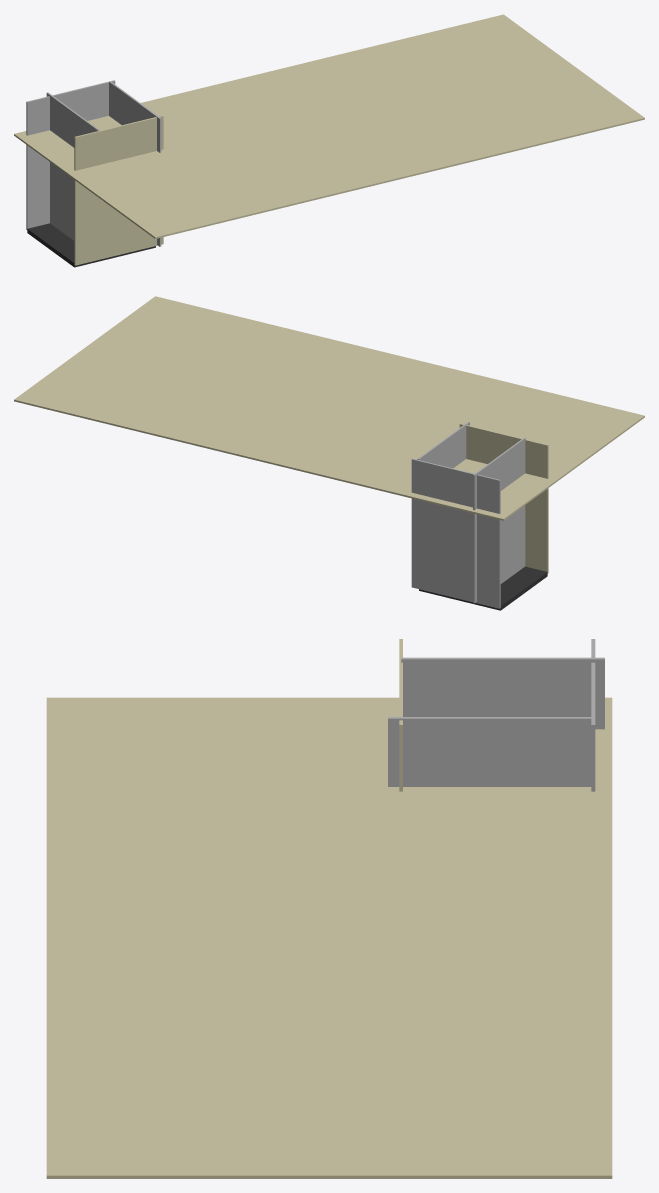
The model's file is Alexander Bedwell Final project.fbx.
3 views of the same model, one above another, from view 1: azimuth 30°, elevation 25°; view 2: azimuth 150°, elevation 25°; view 3: azimuth 270°, elevation 25° (orthographic). The views are drawn at different scales.
Parts seen in each view (by area): view 1: Wall_400x200_12, Wall_400x300_2, Wall_400x301, Wall_400x302_6, Wall_400x303_9, Floor; view 2: Wall_400x200_12, Wall_400x301, Wall_400x300_2, Wall_400x302_6, Floor, Wall_400x303_9; view 3: Wall_400x200_12, Wall_400x303_9, Wall_400x302_6.
Part boxes in pixels (x1,y1,x2,y2): Wall_400x200_12: (14, 14, 644, 238); Wall_400x300_2: (74, 115, 163, 265); Wall_400x301: (26, 80, 115, 229); Wall_400x302_6: (46, 92, 98, 240); Wall_400x303_9: (109, 81, 161, 246); Floor: (27, 223, 155, 267); Wall_400x200_12: (14, 296, 644, 520); Wall_400x301: (411, 458, 500, 608); Wall_400x300_2: (459, 423, 548, 573); Wall_400x302_6: (473, 438, 525, 603); Floor: (419, 566, 547, 610); Wall_400x303_9: (417, 421, 469, 468); Wall_400x200_12: (46, 697, 612, 1178); Wall_400x303_9: (388, 717, 591, 786); Wall_400x302_6: (401, 657, 604, 729).
Size of what is drawn, in the model's own units: 6000 by 3000 by 1550.
